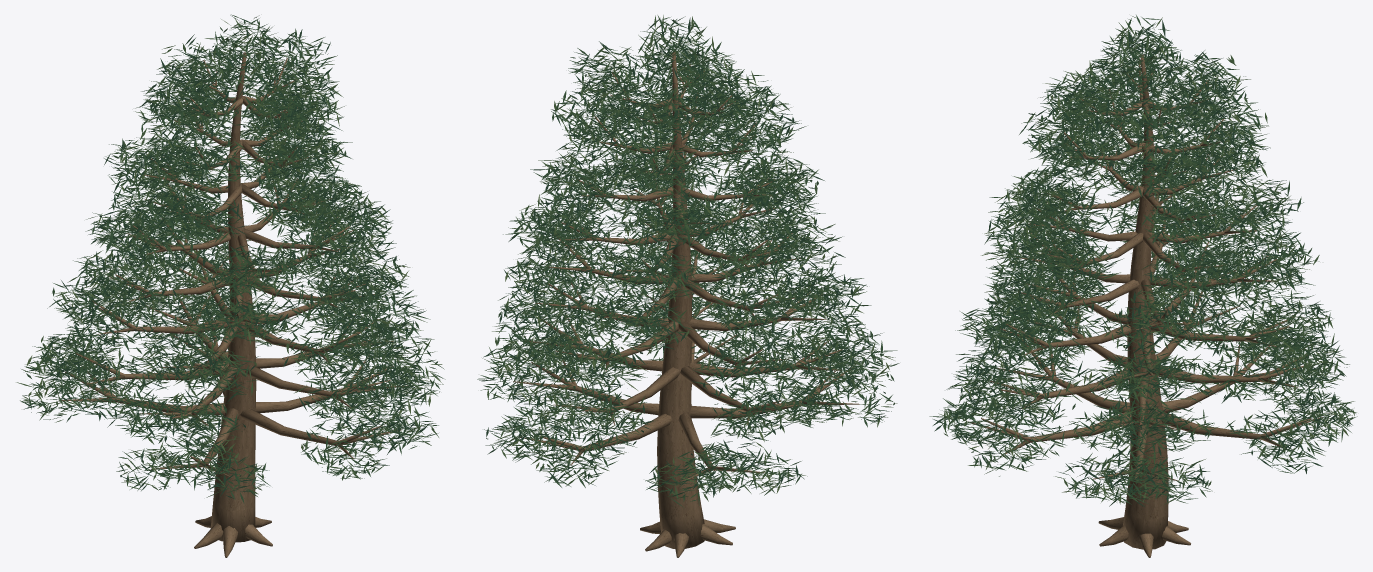
File: pine-tree.glb
The picture shows the model from 3 angles, left to right: view 1: azimuth 30°, elevation 25°; view 2: azimuth 150°, elevation 25°; view 3: azimuth 270°, elevation 25°; orthographic projection.
Parts seen in each view (by area): view 1: 山地松 · 立体叶冠, 山地松 · 树干与枝系; view 2: 山地松 · 立体叶冠, 山地松 · 树干与枝系; view 3: 山地松 · 立体叶冠, 山地松 · 树干与枝系.
Boxes of the visible parts, <box> form: 山地松 · 立体叶冠: <box>16,14,445,503</box>; 山地松 · 树干与枝系: <box>58,52,407,557</box>; 山地松 · 立体叶冠: <box>477,15,899,507</box>; 山地松 · 树干与枝系: <box>513,52,859,557</box>; 山地松 · 立体叶冠: <box>929,15,1357,506</box>; 山地松 · 树干与枝系: <box>968,54,1322,557</box>.
Bounding box in the file's own units: 7.31 × 9.69 × 7.14.
Materials: 5 (1 with a texture image).
